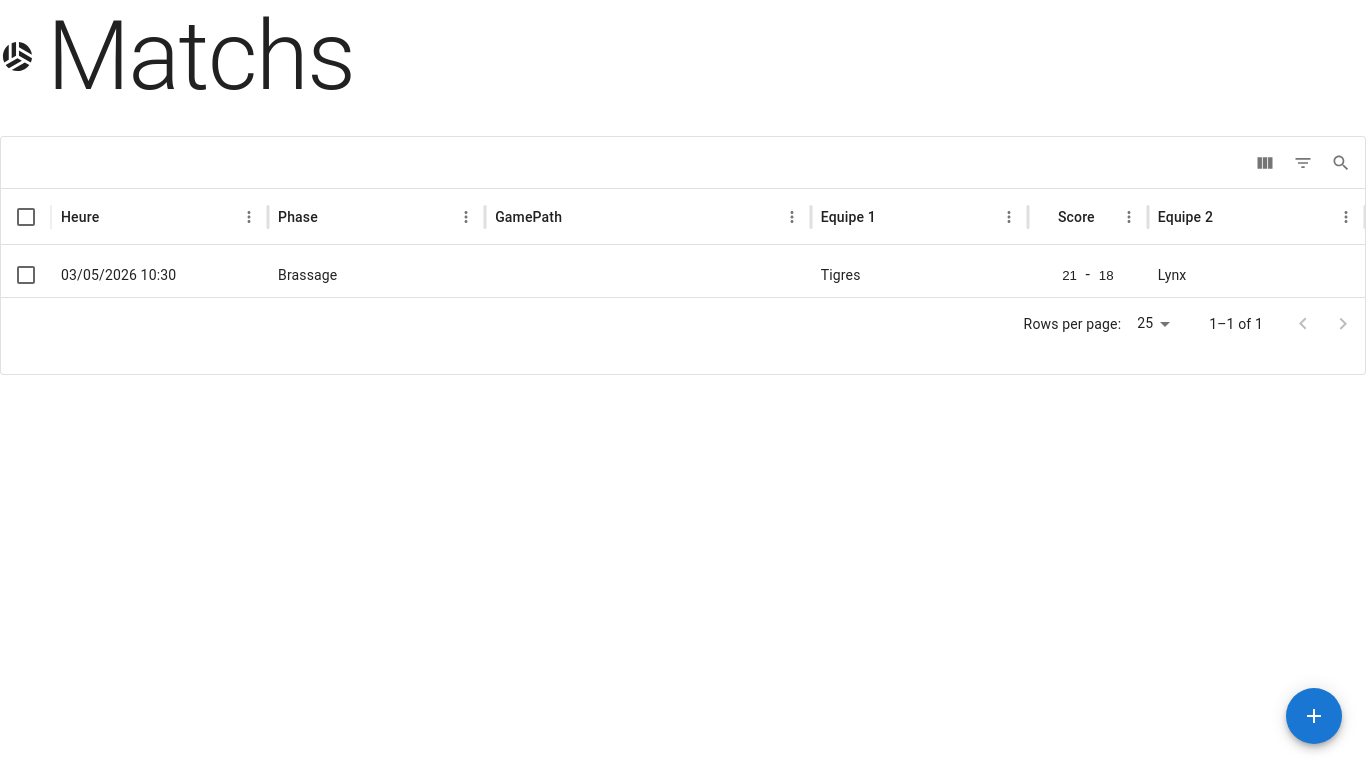
AdminGamesView › should open the update drawer with selected game values
The width and height of the screenshot is (1366, 768).
What coordinates should you click on to do the following:
click the row "03/05/2026 10:30 Brassage Tigres 21 - 18 Lynx"
I would click on:
 (119, 275)
Its box is 14,261 -> 1186,289.
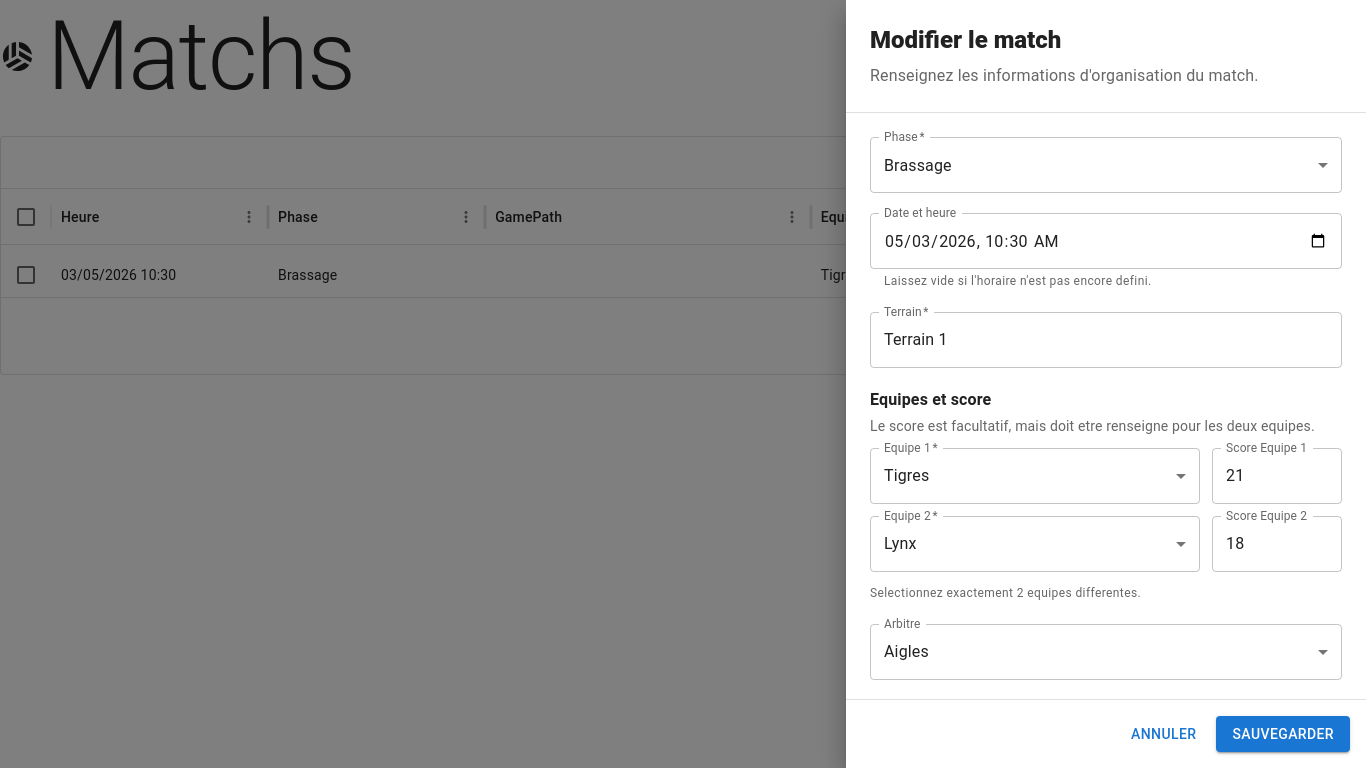
Expected: the heading "Modifier le match" is shown, 870,26 -> 1061,54
Expected: the field showing "Terrain 1" is shown, 870,312 -> 1342,368
Expected: the number field labelled "Score Equipe 1" holds "21", 1212,448 -> 1342,504
